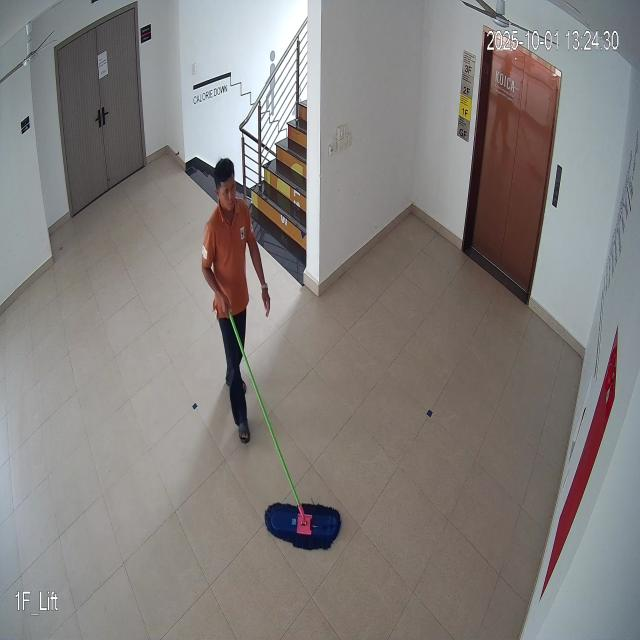face: (212, 152, 242, 217)
